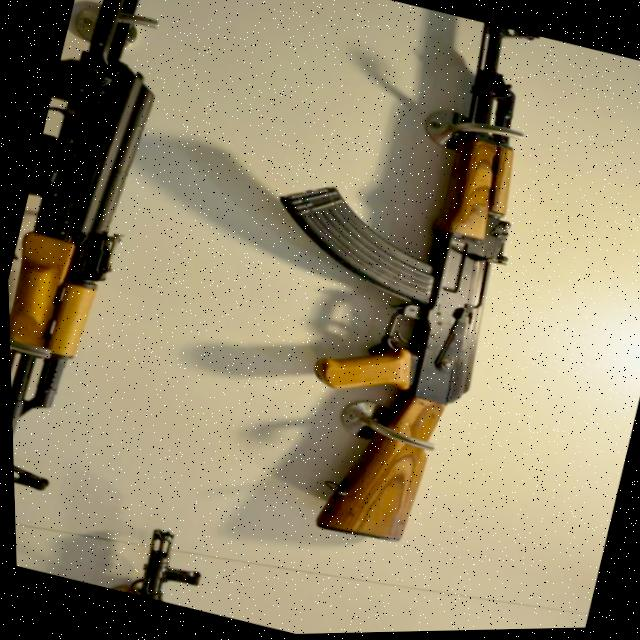firearm: (188, 0, 581, 568), (0, 0, 212, 519), (117, 520, 215, 612)
